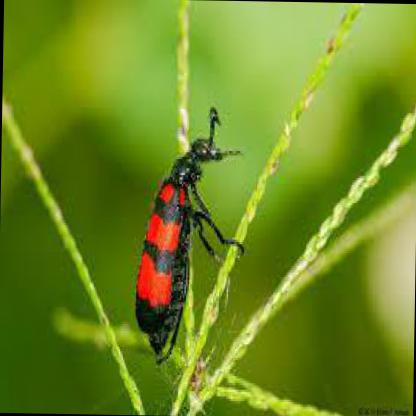blister beetle: (136, 105, 243, 361)
